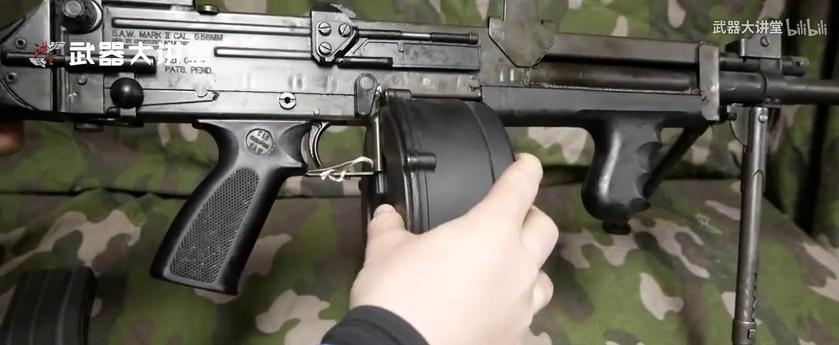gun: (1, 0, 839, 345)
